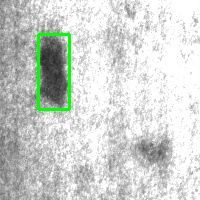patches: (38, 34, 69, 109)
